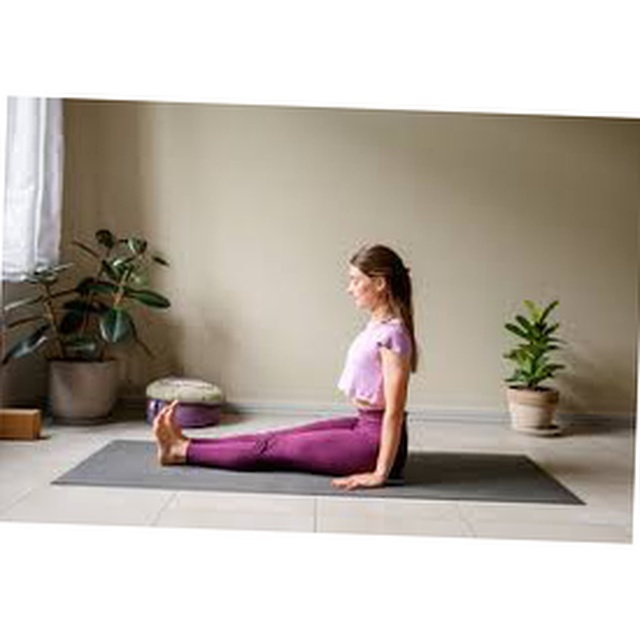Staff_Pose: (151, 244, 421, 490)
